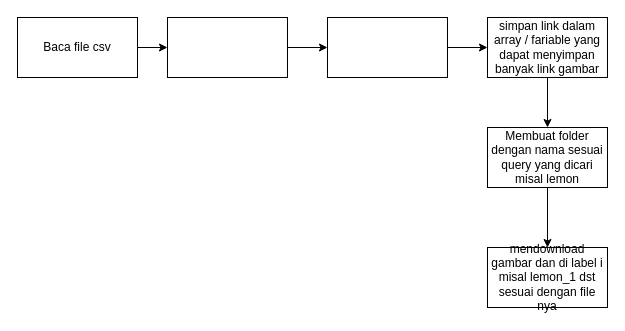
This 625x331 diagram has some shape labels left out. The shapes that lost their labels are listed below. From the top down, each one's box as (x1, y1, x2, y2) in pixels, then its label:
(166, 16, 288, 78): simpan sebagai query list query
(326, 16, 448, 78): scrapping data dari query
